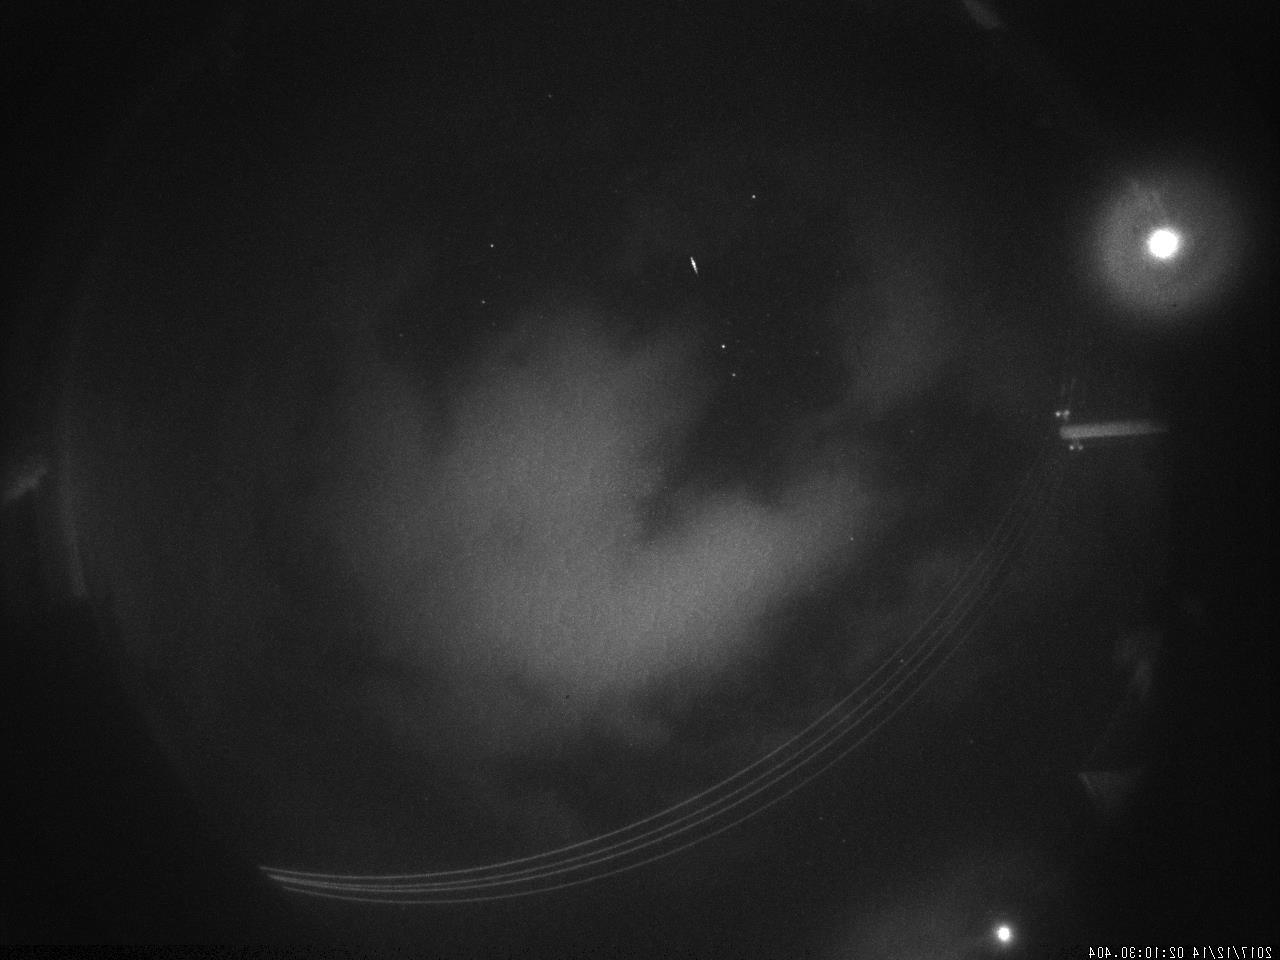meteor: (672, 242, 709, 287)
